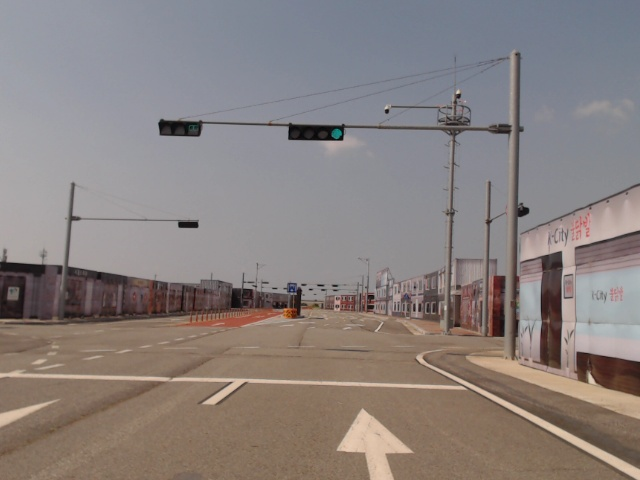straight_green_4: (288, 124, 342, 142)
